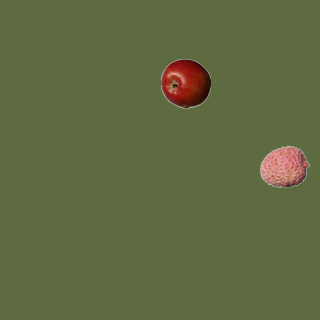Apple Braeburn: (160, 58, 210, 108)
Lychee: (259, 141, 309, 191)
